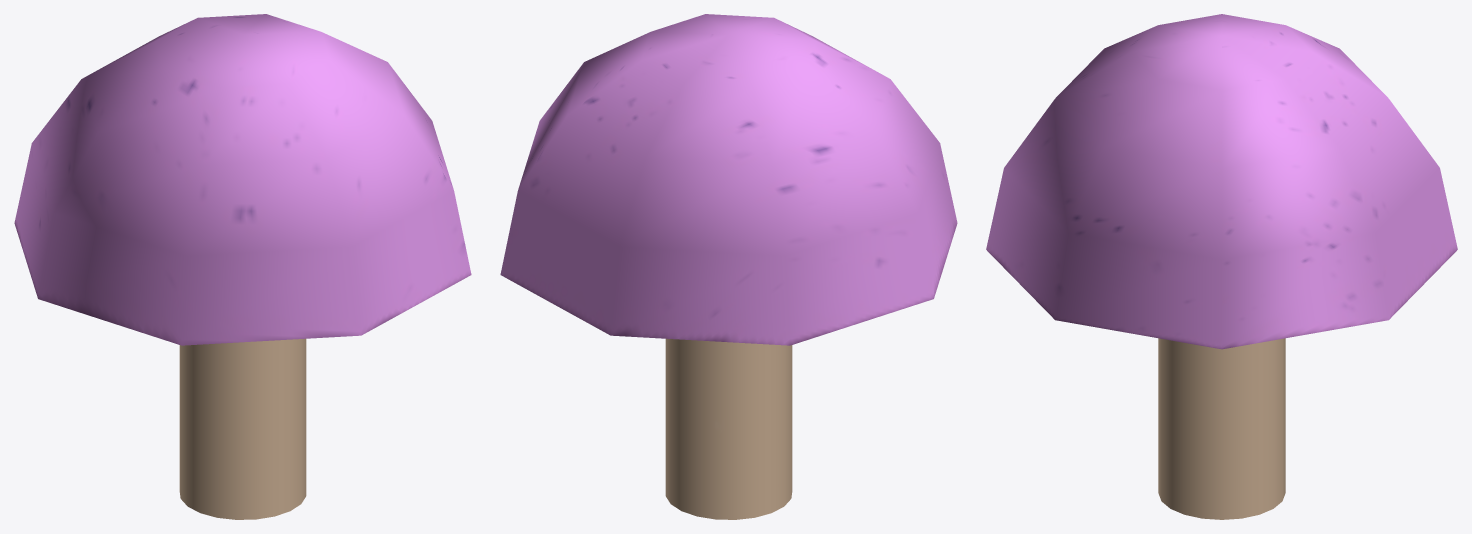
The model's file is MushroomS.fbx.
3 views of the same model, side by side, from view 1: azimuth 30°, elevation 25°; view 2: azimuth 150°, elevation 25°; view 3: azimuth 270°, elevation 25° (orthographic).
Visible parts, largest first — view 1: MushroomS_pSphere2; view 2: MushroomS_pSphere2; view 3: MushroomS_pSphere2.
Part boxes in pixels (x1=…): MushroomS_pSphere2: x1=14, y1=14, x2=471, y2=519; MushroomS_pSphere2: x1=500, y1=14, x2=957, y2=519; MushroomS_pSphere2: x1=986, y1=14, x2=1457, y2=519.
Bounding box in the file's own units: 2 × 2.14 × 2.
1 material, 1 textured.
